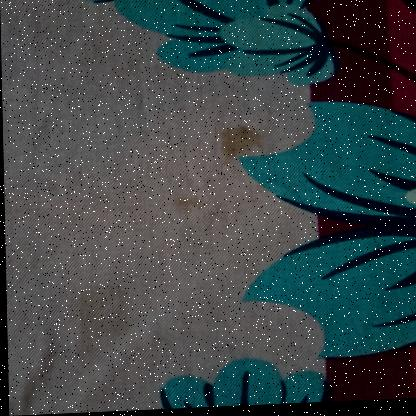spot: (72, 284, 129, 354), (210, 118, 269, 167), (170, 181, 224, 225)
